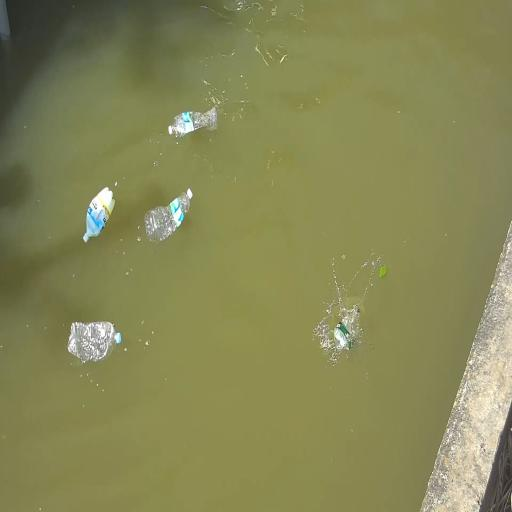plastic: (145, 189, 192, 241), (68, 321, 121, 364), (83, 188, 115, 242), (168, 107, 217, 137), (334, 305, 359, 349)
